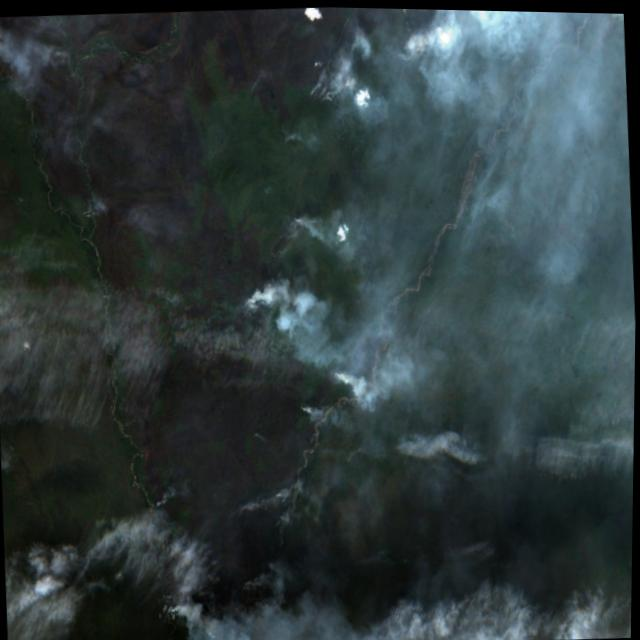fire: (296, 5, 458, 128), (222, 189, 324, 334), (147, 549, 278, 640), (287, 347, 354, 431)
